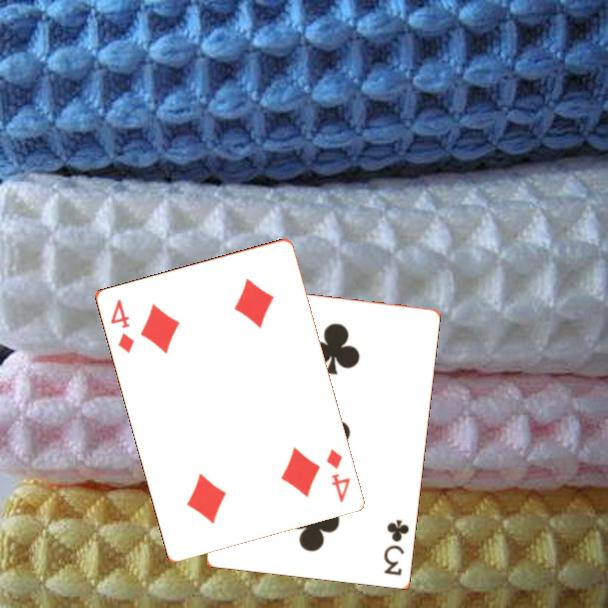c03: (380, 516, 412, 579)
d04: (106, 295, 137, 356), (323, 445, 352, 505)
